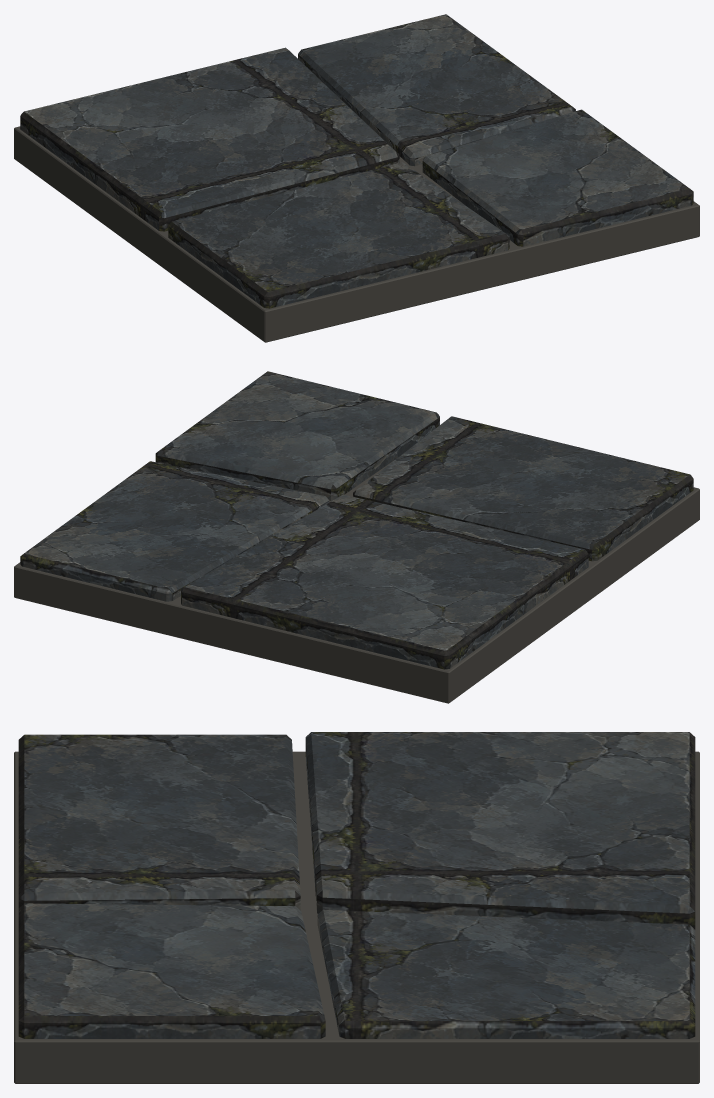
Rendered from floor_stone_a.glb.
The picture shows the model from 3 angles, top to bottom: view 1: azimuth 30°, elevation 25°; view 2: azimuth 150°, elevation 25°; view 3: azimuth 270°, elevation 25°; orthographic projection. The views are drawn at different scales.
Visible parts, largest first — view 1: floor_stone_a; view 2: floor_stone_a; view 3: floor_stone_a.
Boxes of the visible parts, bbox=[...] form: floor_stone_a: bbox=[14, 14, 699, 342]; floor_stone_a: bbox=[14, 371, 699, 703]; floor_stone_a: bbox=[14, 732, 699, 1083].
Bounding box in the file's own units: 1 × 0.1074 × 1.
Materials: 2 (1 with a texture image).
